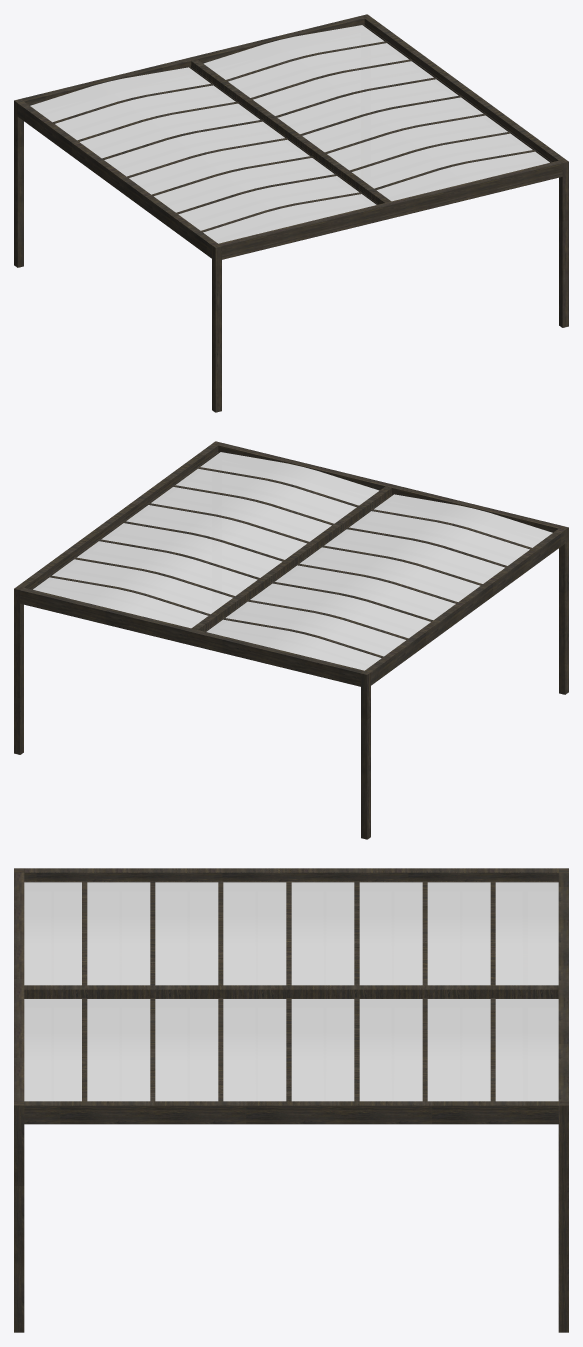
The model's file is hyrcaryaad-h24-w54-d53_blackebony.fbx.
The picture shows the model from 3 angles, top to bottom: view 1: azimuth 30°, elevation 25°; view 2: azimuth 150°, elevation 25°; view 3: azimuth 270°, elevation 25°; orthographic projection. The views are drawn at different scales.
Parts seen in each view (by area): view 1: hyrcaryaad-h24-w54-d53-brackebony; view 2: hyrcaryaad-h24-w54-d53-brackebony; view 3: hyrcaryaad-h24-w54-d53-brackebony.
Boxes of the visible parts, x1=… form: hyrcaryaad-h24-w54-d53-brackebony: x1=14, y1=14, x2=568, y2=412; hyrcaryaad-h24-w54-d53-brackebony: x1=14, y1=441, x2=568, y2=839; hyrcaryaad-h24-w54-d53-brackebony: x1=14, y1=868, x2=568, y2=1332.
Bounding box in the file's own units: 550 × 245 × 543.
Materials: 2 (1 with a texture image).
